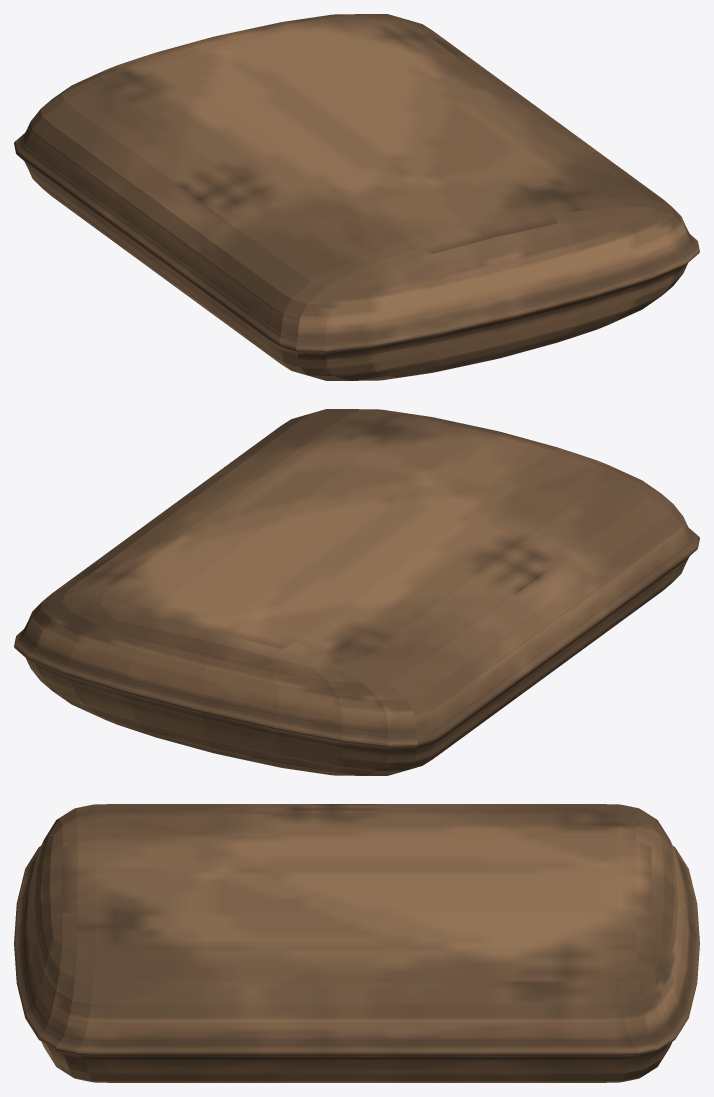
Rendered from Sandbag.obj.
3 views of the same model, one above another, from view 1: azimuth 30°, elevation 25°; view 2: azimuth 150°, elevation 25°; view 3: azimuth 270°, elevation 25° (orthographic). The views are drawn at different scales.
Visible parts, largest first — view 1: Sandbags; view 2: Sandbags; view 3: Sandbags.
Part boxes in pixels (x1,y1,x2,y2): Sandbags: (14, 14, 699, 380); Sandbags: (14, 409, 699, 775); Sandbags: (14, 804, 699, 1082).
Bounding box in the file's own units: 6.55 × 1.94 × 8.64.
